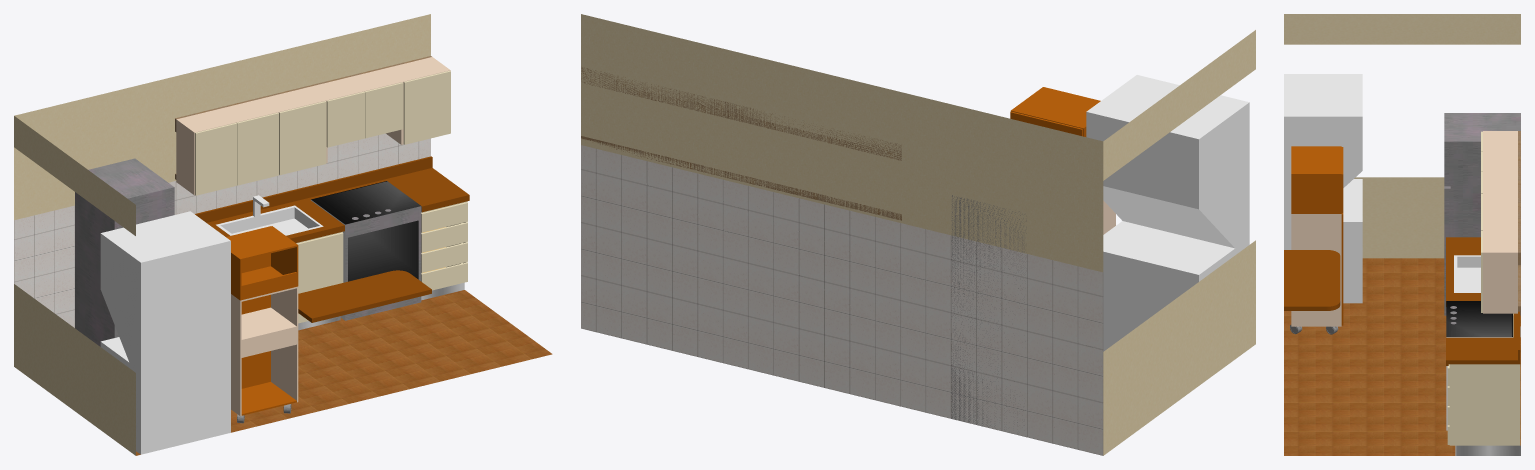
File: kitchen.glb
3 views of the same model, side by side, from view 1: azimuth 30°, elevation 25°; view 2: azimuth 150°, elevation 25°; view 3: azimuth 270°, elevation 25° (orthographic). The views are drawn at different scales.
Parts seen in each view (by area): view 1: g5, g3, g17, g0, g4, g9, g19, g116, g6, g21, g24, g16 (+29 smaller); view 2: g4, g3, g5, g0, g9, g133, g22, g25; view 3: g17, g0, g5, g42, g9, g116, g137, g78, g122, g19, g108, g133 (+8 smaller).
Boxes of the visible parts, x1=… form: g5: x1=100, y1=211, x2=230, y2=454; g3: x1=14, y1=14, x2=430, y2=220; g17: x1=136, y1=290, x2=552, y2=455; g0: x1=14, y1=116, x2=135, y2=455; g4: x1=14, y1=133, x2=430, y2=327; g9: x1=75, y1=158, x2=174, y2=346; g19: x1=311, y1=181, x2=420, y2=281; g116: x1=298, y1=270, x2=431, y2=318; g6: x1=403, y1=70, x2=450, y2=144; g21: x1=279, y1=101, x2=326, y2=175; g24: x1=195, y1=123, x2=237, y2=195; g16: x1=237, y1=112, x2=278, y2=185; g4: x1=581, y1=145, x2=1103, y2=455; g3: x1=581, y1=14, x2=1103, y2=272; g5: x1=1086, y1=75, x2=1249, y2=351; g0: x1=1103, y1=30, x2=1255, y2=455; g9: x1=951, y1=195, x2=1026, y2=429; g133: x1=1012, y1=87, x2=1100, y2=128; g22: x1=581, y1=136, x2=901, y2=220; g25: x1=581, y1=76, x2=901, y2=160; g17: x1=1284, y1=258, x2=1520, y2=455; g0: x1=1284, y1=14, x2=1520, y2=258; g5: x1=1284, y1=74, x2=1362, y2=303; g42: x1=1449, y1=364, x2=1520, y2=445; g9: x1=1444, y1=113, x2=1520, y2=315; g116: x1=1284, y1=250, x2=1340, y2=306; g137: x1=1291, y1=214, x2=1341, y2=326; g78: x1=1483, y1=251, x2=1516, y2=313; g122: x1=1291, y1=173, x2=1341, y2=213; g19: x1=1446, y1=301, x2=1512, y2=336; g108: x1=1446, y1=337, x2=1519, y2=360; g133: x1=1291, y1=147, x2=1341, y2=173.
Bounding box in the file's own units: 4.17 × 2.4 × 2.11.
Materials: 16 (8 with a texture image).
